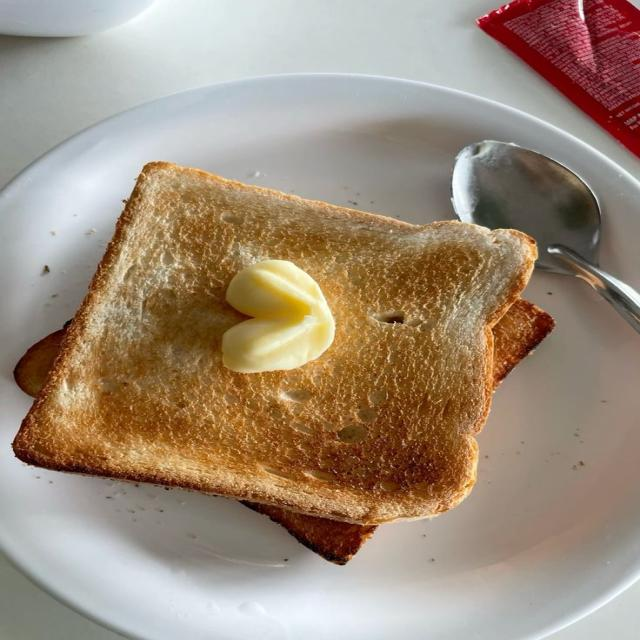toast bread: (14, 163, 535, 523), (244, 502, 376, 564)
